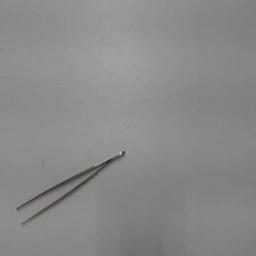Gillies Toothed Dissector: (14, 147, 130, 233)
